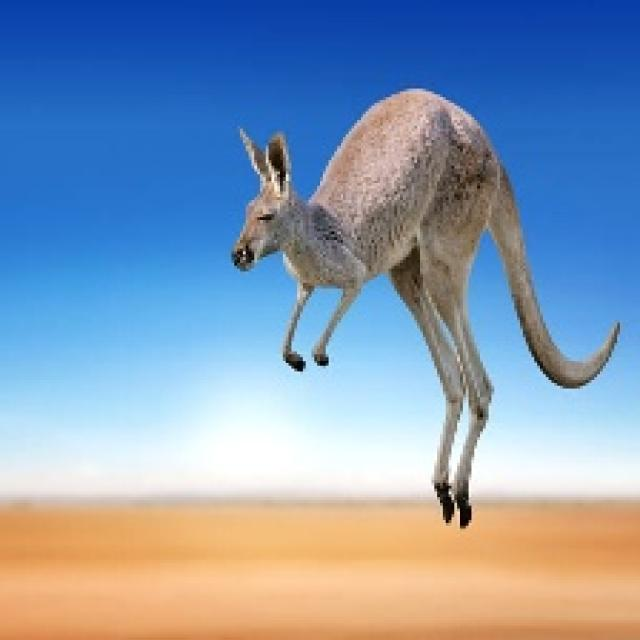bear: (232, 59, 628, 552)
